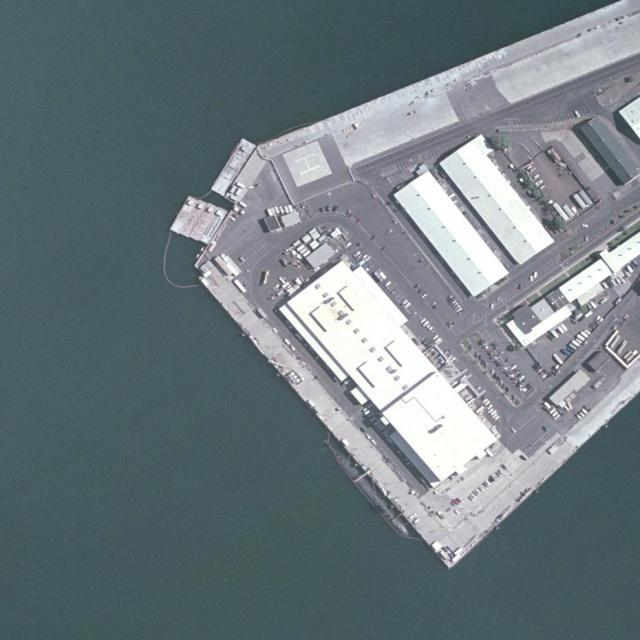Submarine: (328, 445, 411, 540)
